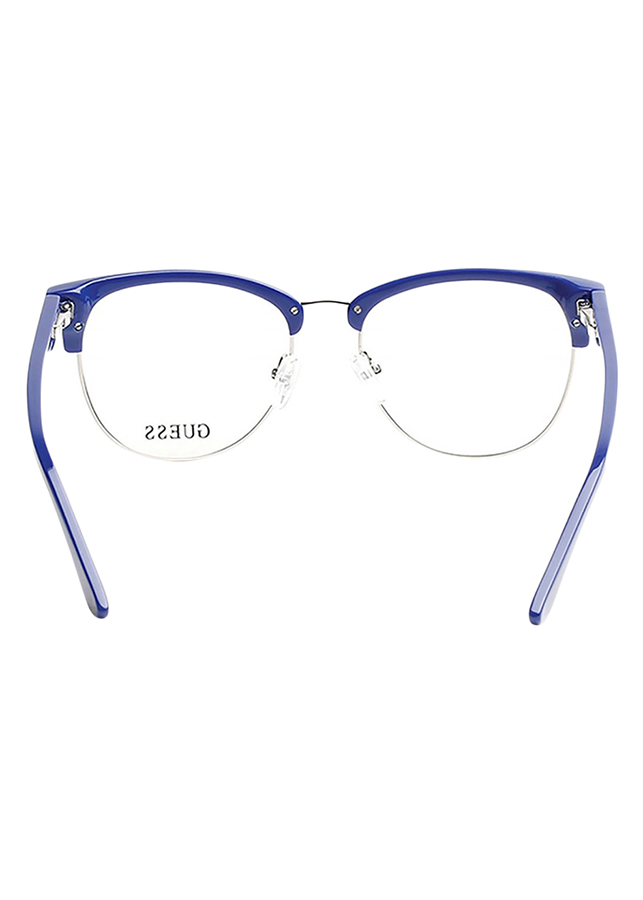Guess: (139, 419, 218, 445)
